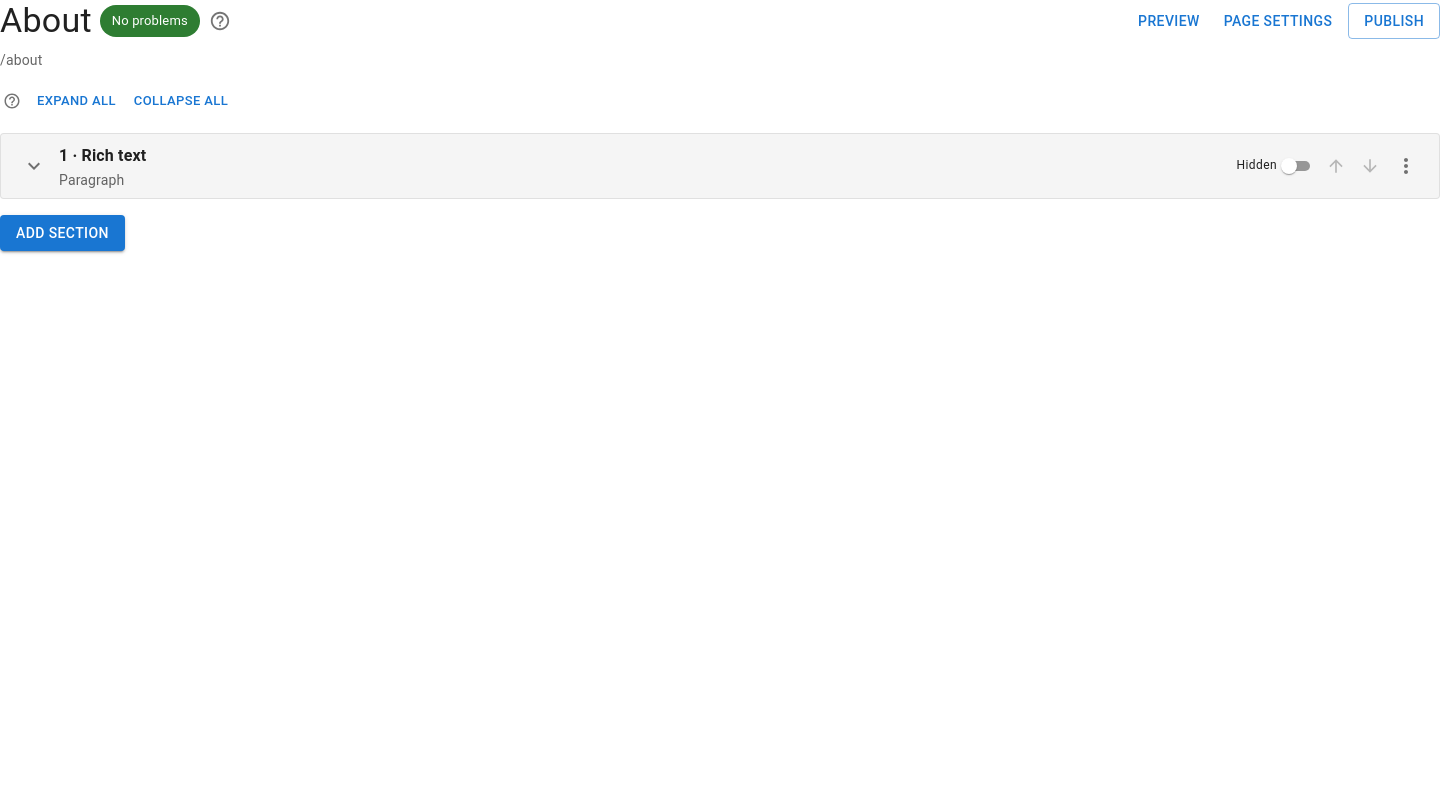
Test case: PageEditor › palette greys a kind the page's role excludes and leaves allowed kinds enabled
Step 1. Click the button "Add section" → point(62, 233), box [0,215,125,251]
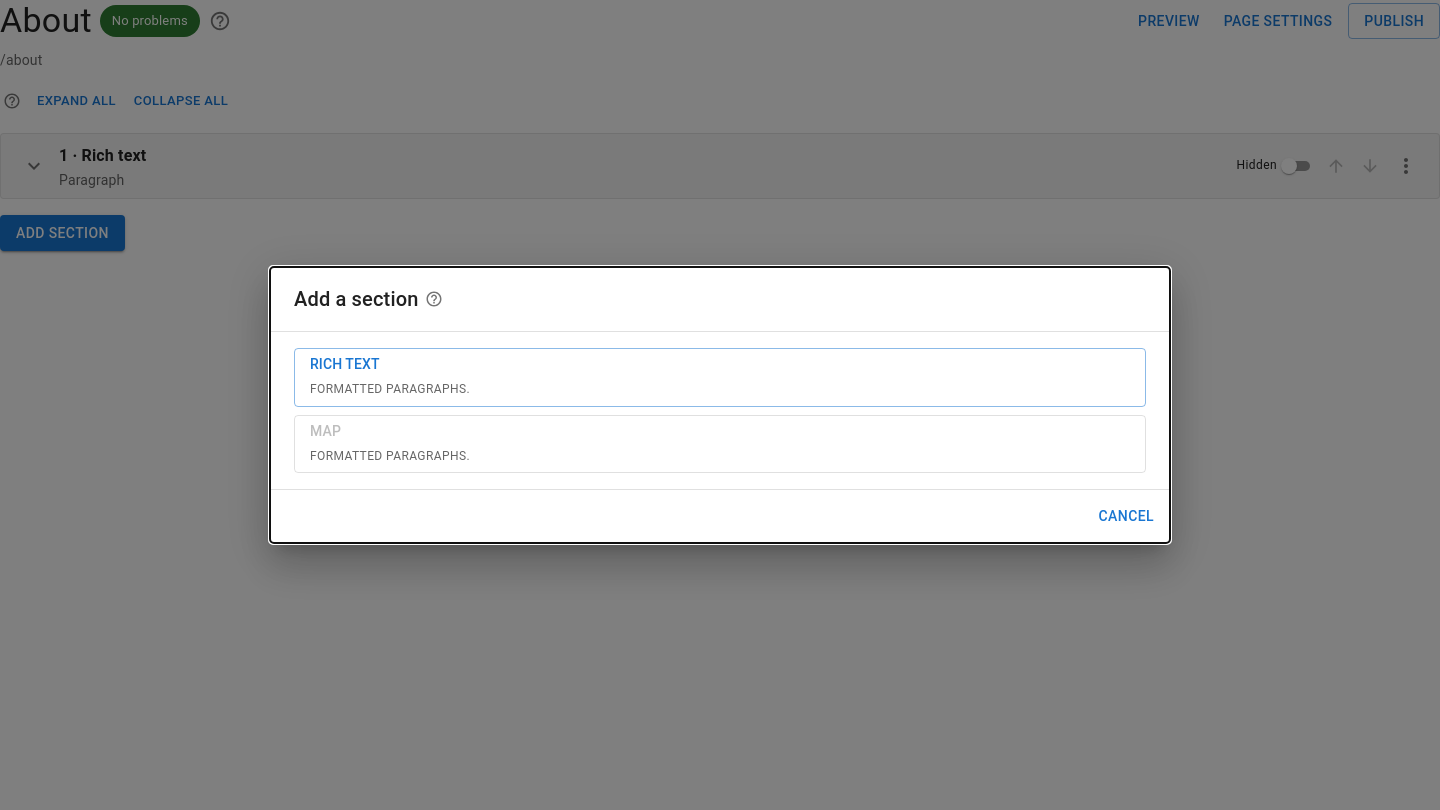
Expected: the button with test id "help-pages.editor.palette" is shown, [422,287,446,311]
Expected: the button with test id "palette-kind-rich_text" is enabled, [294,348,1146,407]
Expected: the button with test id "palette-kind-map" is disabled, [294,415,1146,473]
